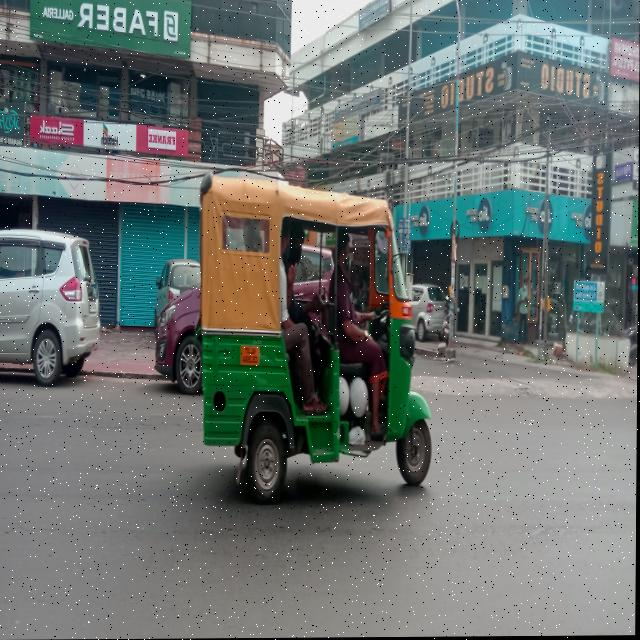plate: (241, 347, 259, 369)
